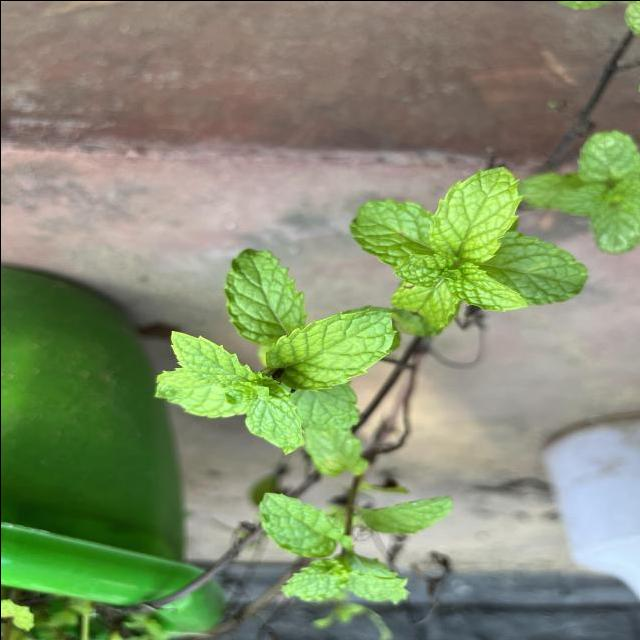Mentha spicata: (264, 308, 398, 392), (427, 164, 524, 266), (224, 247, 306, 346), (242, 380, 306, 454), (444, 260, 528, 312)
